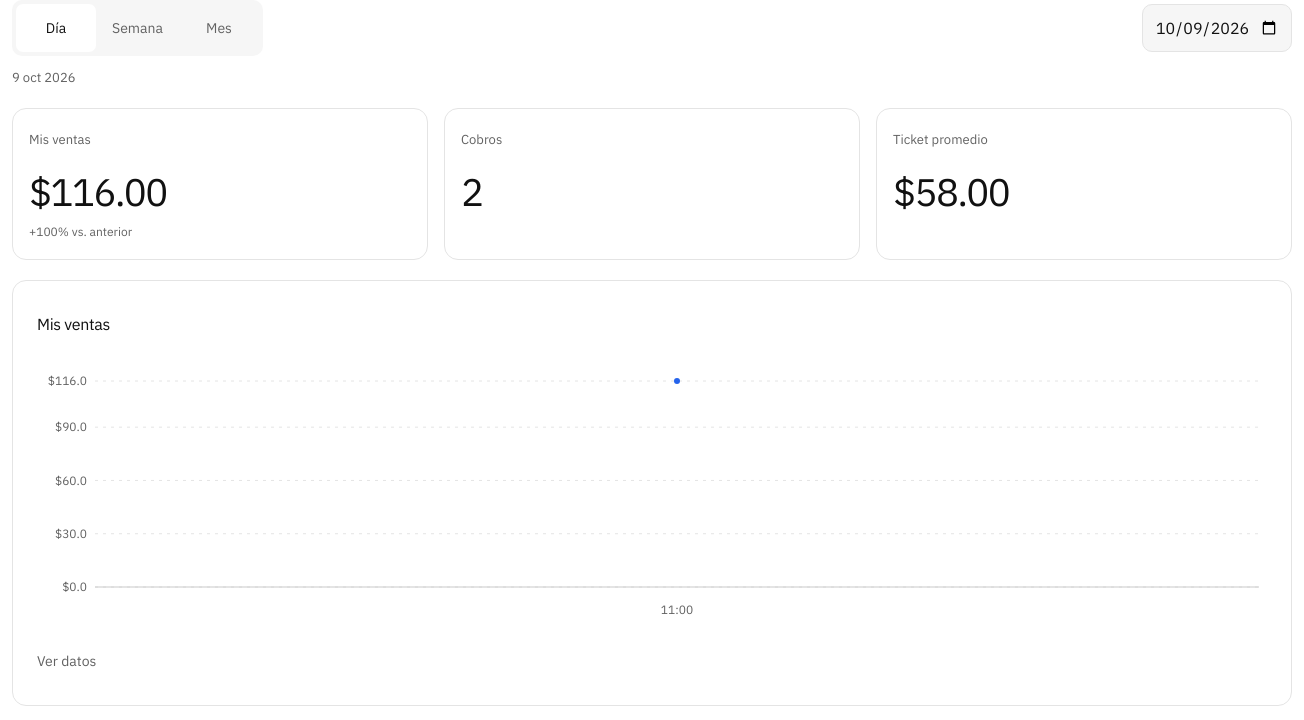
failed selection restores confirmed filters and retries the failed query without a skeleton
The width and height of the screenshot is (1304, 720).
Click the button "Semana": (138, 28) [96,4,179,52]
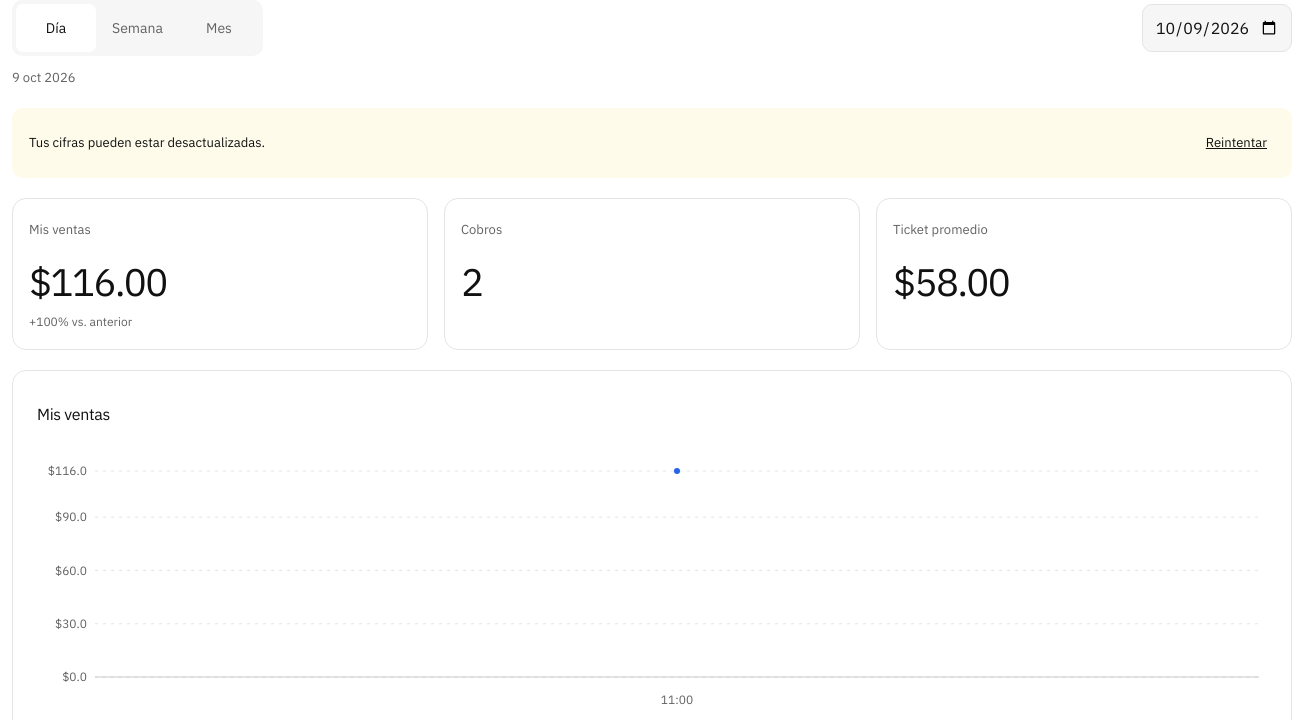
Expected: the message shows "Tus cifras pueden estar desactualizadas.", [29,134,265,151]
Click the button "Reintentar": (1236, 142) [1198,118,1275,166]
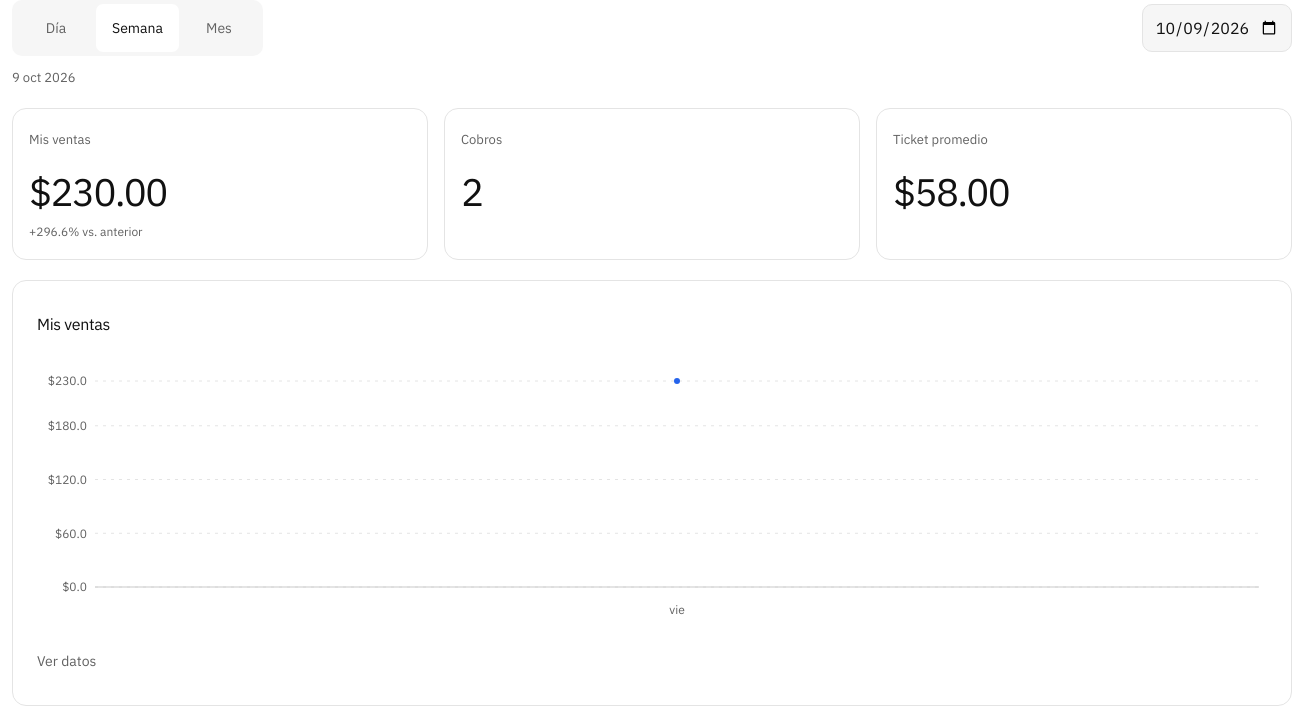
Expected: the message "Tus cifras pueden estar desactualizadas. Reintentar" is gone
